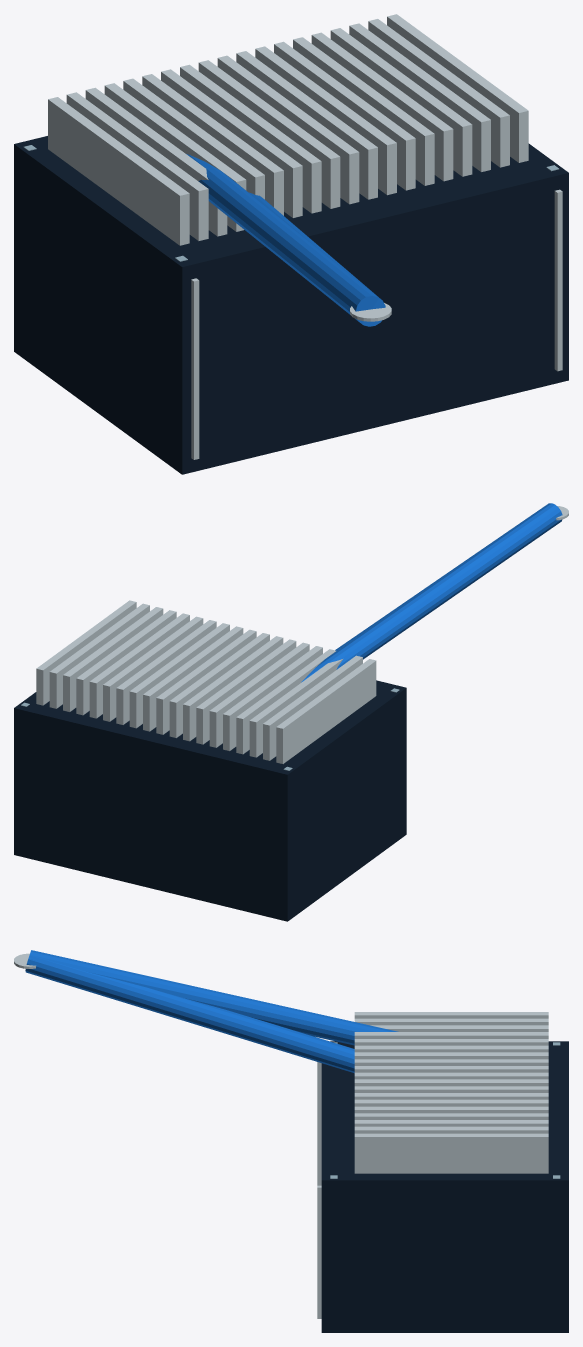
The model's file is 38_L75_WaferCoolingSystem.fbx.
3 views of the same model, one above another, from view 1: azimuth 30°, elevation 25°; view 2: azimuth 150°, elevation 25°; view 3: azimuth 270°, elevation 25° (orthographic). The views are drawn at different scales.
Parts seen in each view (by area): view 1: WaferCoolingSystem; view 2: WaferCoolingSystem; view 3: WaferCoolingSystem.
Part boxes in pixels (bbox=[...]): WaferCoolingSystem: bbox=[14, 14, 568, 474]; WaferCoolingSystem: bbox=[14, 503, 568, 921]; WaferCoolingSystem: bbox=[14, 950, 568, 1332].
Bounding box in the file's own units: 165 × 124 × 260.
